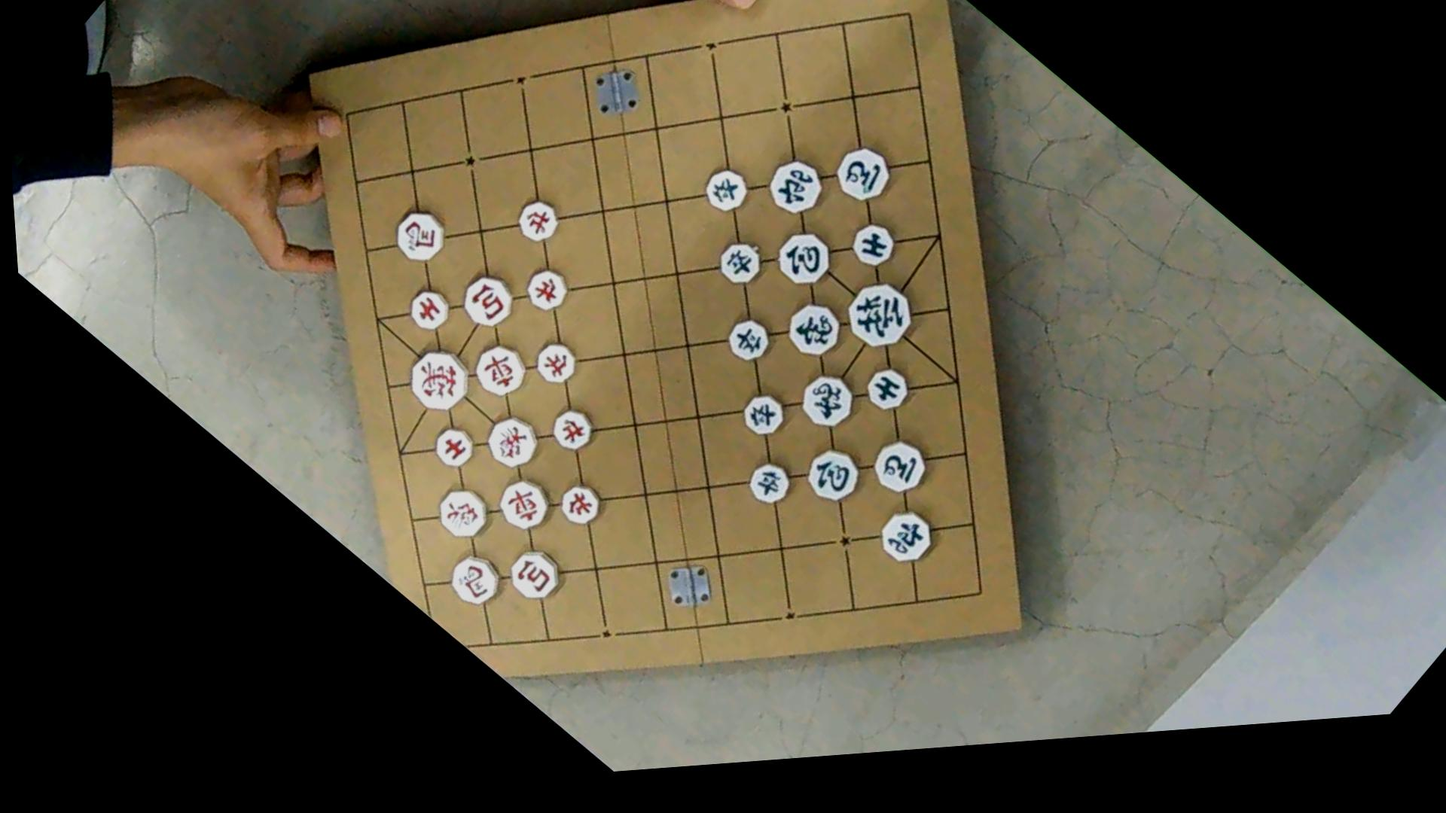cha_green: (757, 149, 833, 226), (869, 500, 942, 574)
cha_red: (463, 333, 536, 406), (488, 469, 559, 540)
jol_green: (695, 160, 755, 221), (710, 233, 770, 293), (718, 310, 777, 370), (739, 454, 798, 513), (734, 385, 792, 445)
jol_red: (517, 261, 575, 319), (551, 477, 609, 534), (509, 193, 566, 250), (544, 402, 601, 459), (527, 336, 582, 391)
ma_green: (825, 136, 900, 212), (862, 431, 935, 504)
ma_red: (438, 545, 509, 617), (385, 202, 455, 272)
po_green: (766, 221, 840, 296), (797, 439, 869, 512)
po_red: (452, 266, 523, 337), (500, 541, 569, 611)
sa_green: (857, 361, 917, 420), (844, 216, 902, 275)
sa_red: (426, 419, 481, 477), (401, 282, 456, 338)
sang_green: (776, 292, 851, 367), (791, 364, 864, 438)
sang_red: (476, 407, 547, 478), (428, 479, 497, 548)
wang_green: (834, 269, 925, 361)
wang_red: (396, 338, 480, 423)
